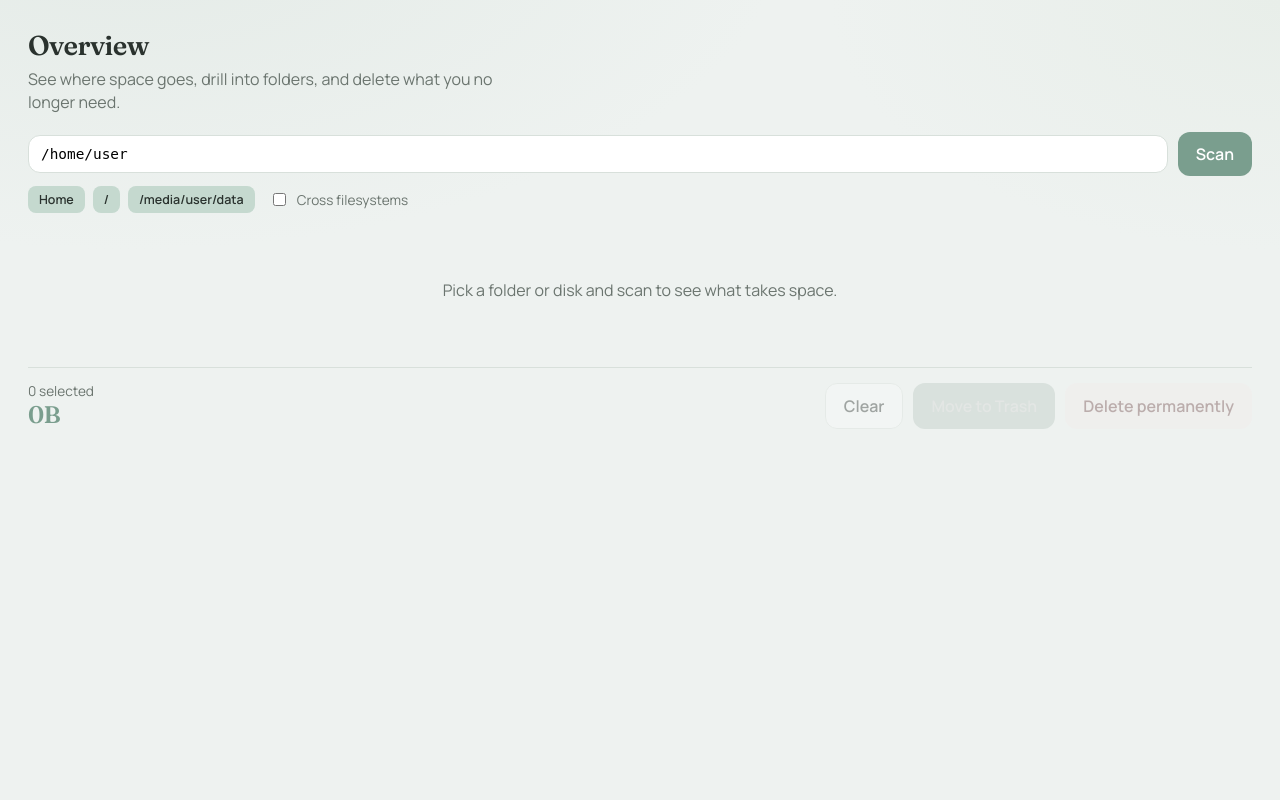
Test: OverviewPanel › deletes after confirming and warns about programs using the path
Check: the field named "Folder to scan" holds "/home/user", box [28,135,1168,173]
Click the button "Scan" at (1215, 154), box [1178,132,1252,176]
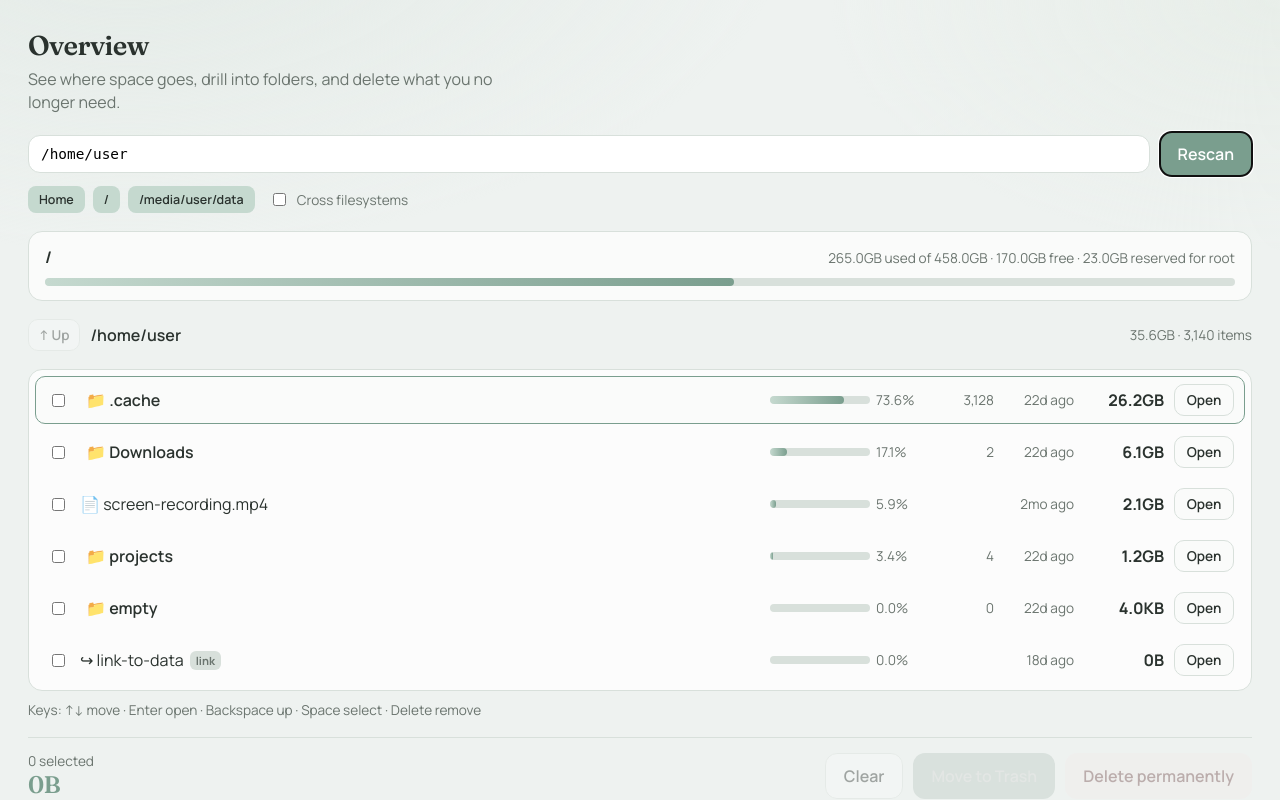
Check: the table named "Folder contents" is shown, box [28,369,1252,691]
Click the button "📁 .cache" at (123, 400), box [80,388,166,412]
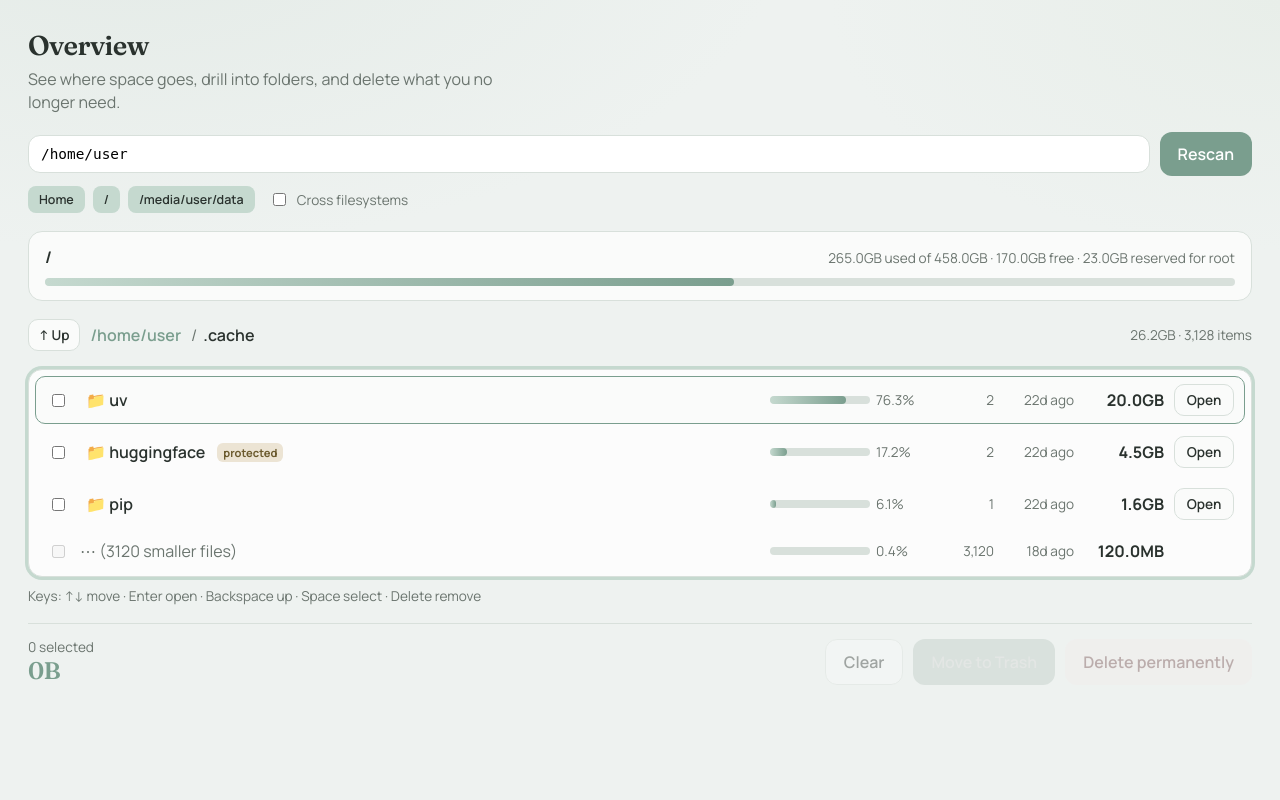
Check: the row "📁 uv 76.3% 2 22d ago 20.0GB Open" is shown, box [35,376,1245,424]
Click the checkbox named "Select uv" at (58, 400), box [50,394,67,407]
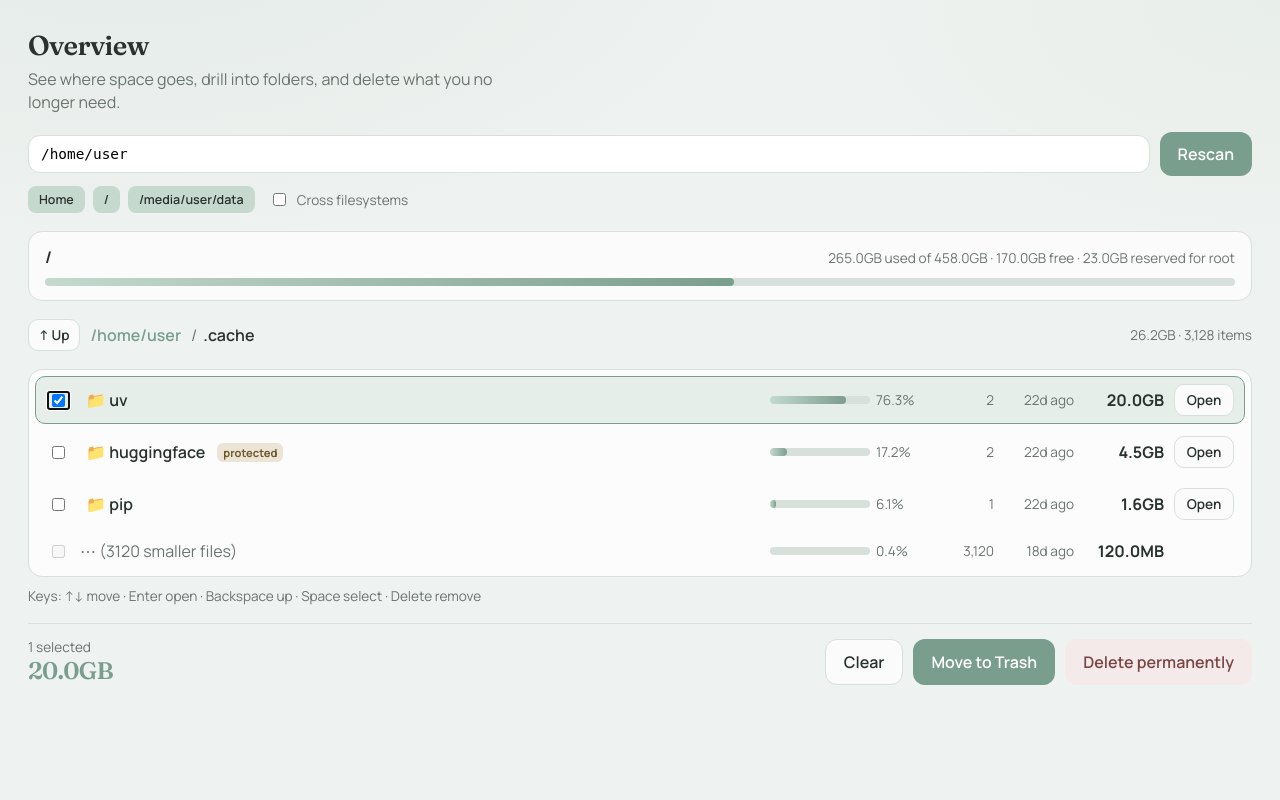
Click the checkbox named "Select pip" at (58, 504), box [50,498,67,511]
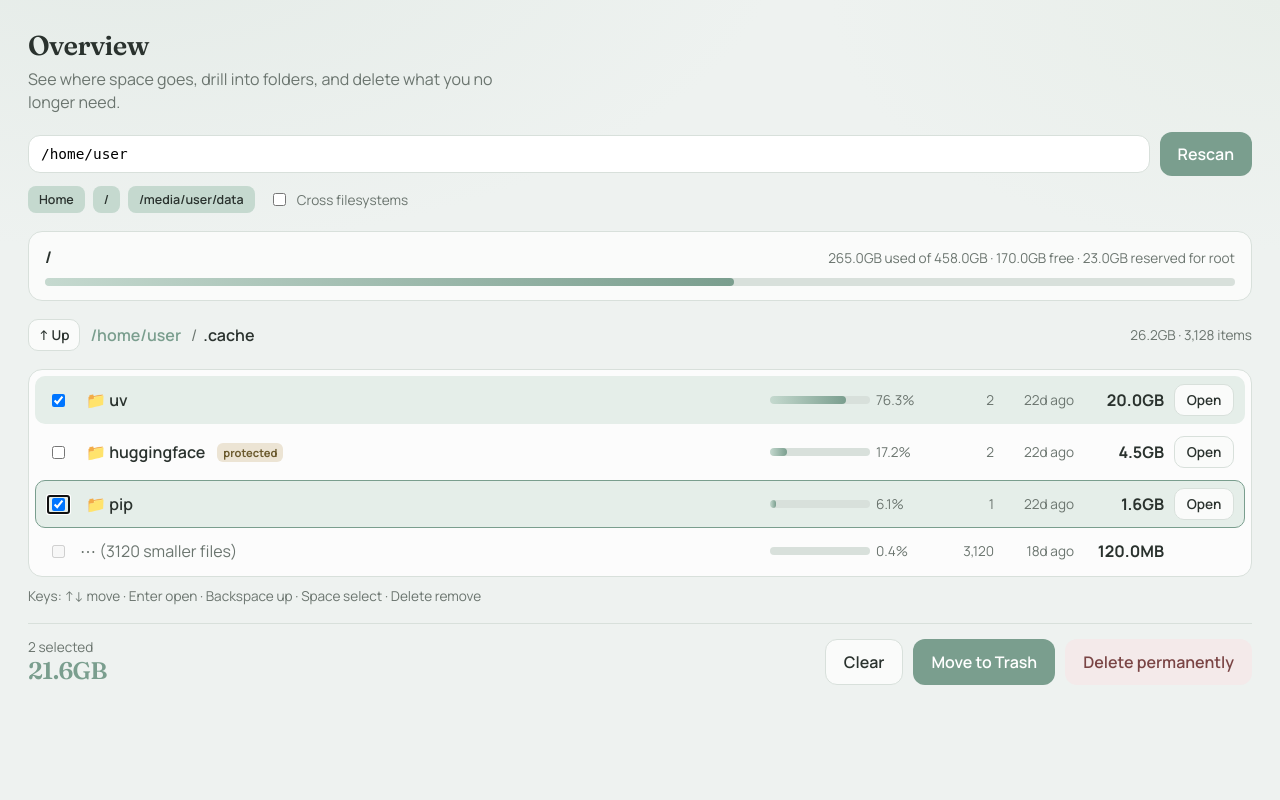
Check: the text "2 selected" is shown, box [28,638,93,656]
Check: the text "21.6GB" is shown, box [28,656,106,685]
Click the button "Delete permanently" at (1159, 662), box [1065,639,1252,685]
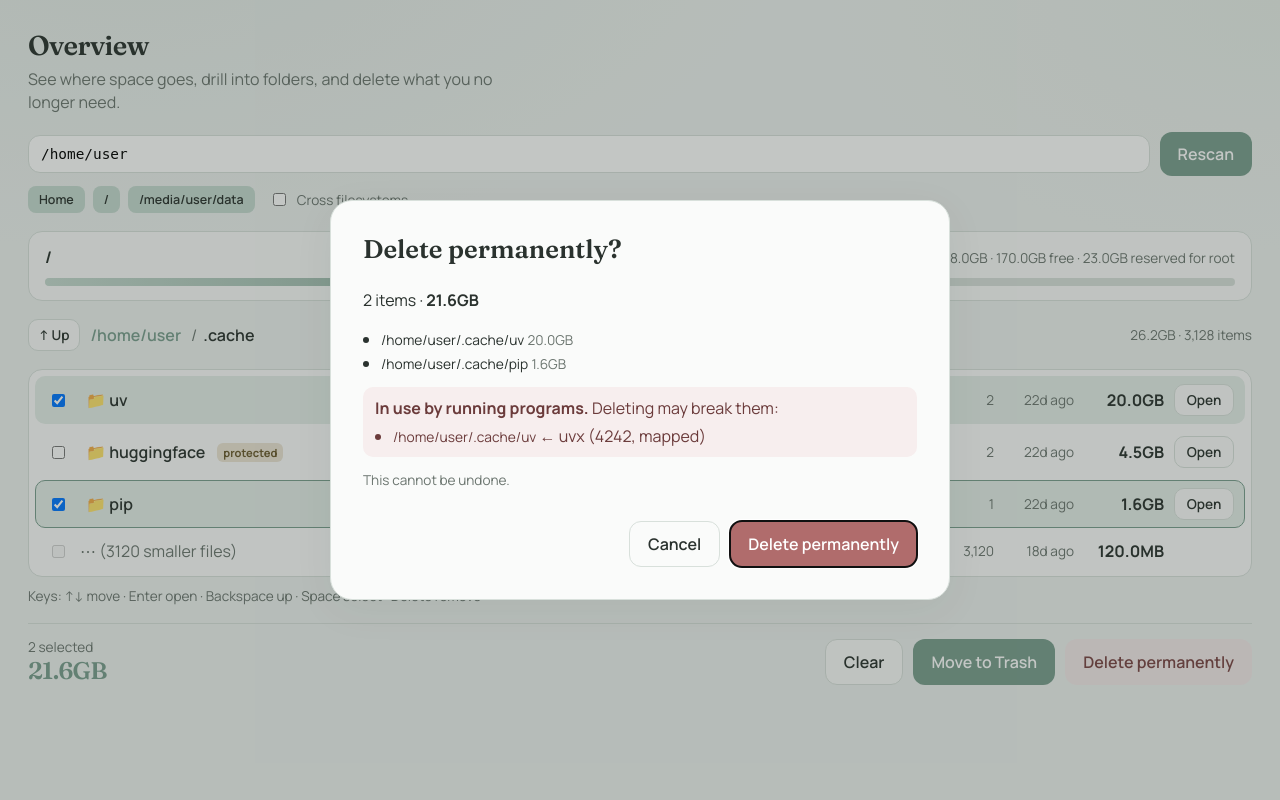
Check: the dialog "Delete permanently?" shows "2 items", box [330,200,950,600]
Check: the message shows "uvx (4242, mapped)", box [559,425,706,447]
Check: the dialog "Delete permanently?" shows "This cannot be undone.", box [363,471,510,489]
Click the button "Delete permanently" at (824, 544), box [730,521,917,567]
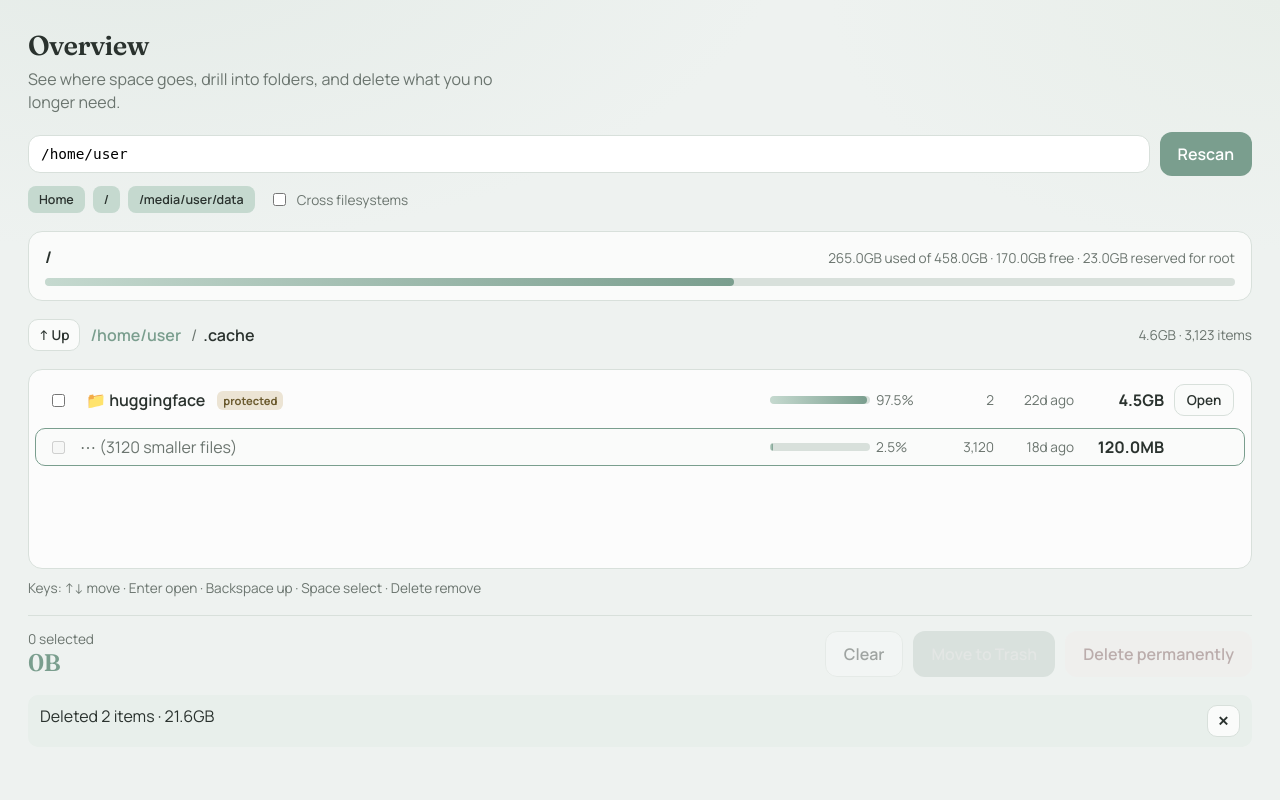
Check: the dialog is gone
Check: the message shows "Deleted 2 items · 21.6GB", box [28,695,1252,747]
Check: the text "0 selected" is shown, box [28,630,94,648]
